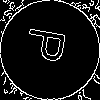P: (25, 25, 76, 67)
